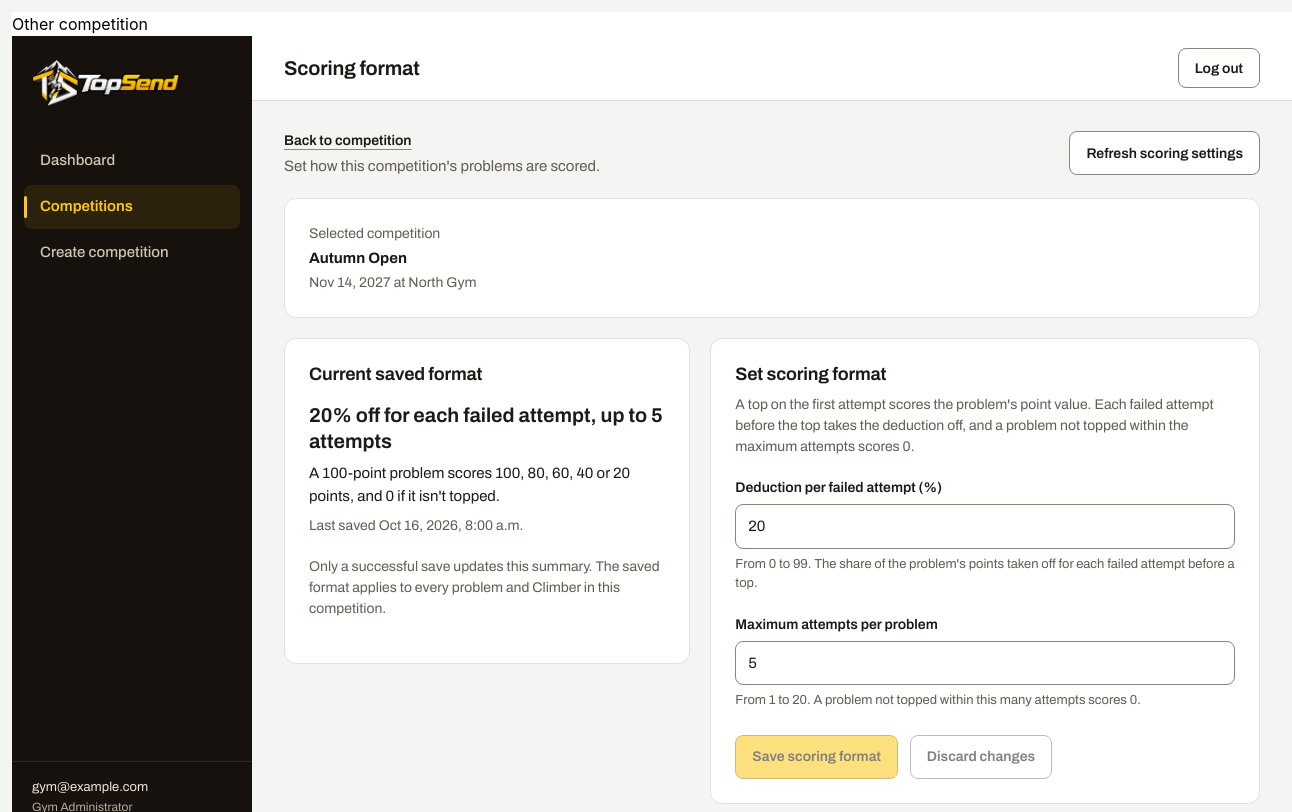
Test: US018 #86/#87 scoring settings and saved format › rejects deduction '' without a write
Clear the number field labelled "Deduction per failed attempt (%)" at point(985, 527), box 735,504 -> 1235,549
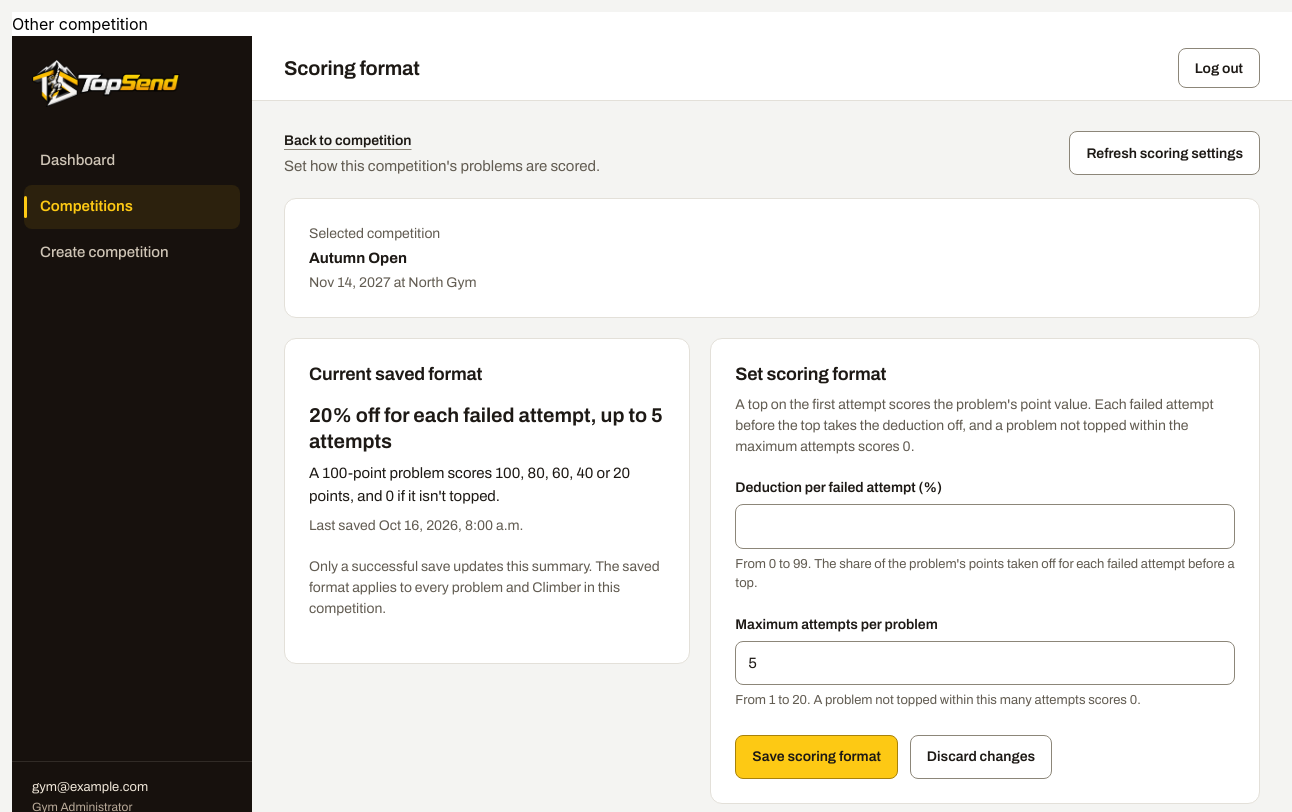
Submit the form named "Configure scoring format", box 710,338 -> 1260,804
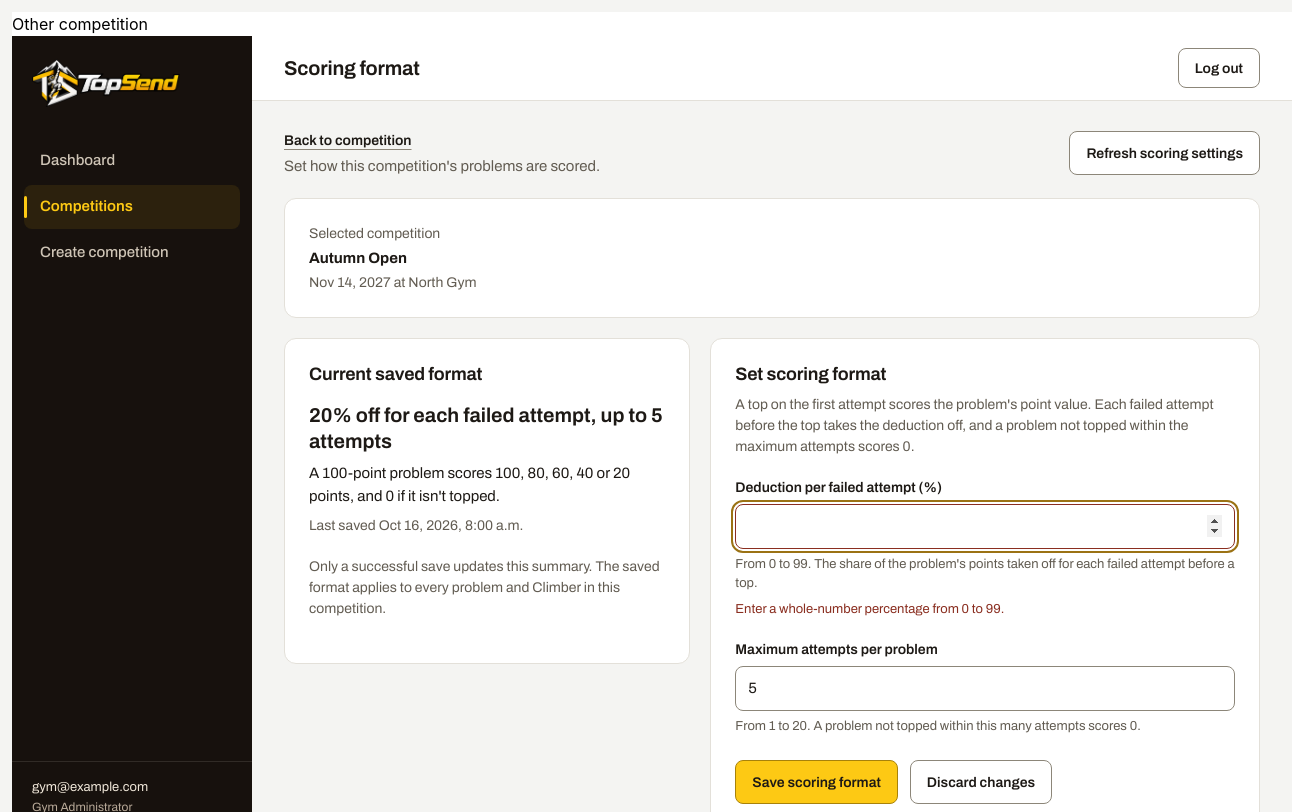
Expected: the text "Enter a whole-number percentage from 0 to 99." is shown, 735,602 -> 1004,616
